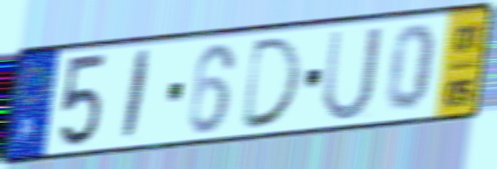0: (385, 20, 439, 117)
5: (54, 49, 112, 150)
6: (186, 40, 239, 138)
D: (238, 33, 305, 134)
I: (118, 47, 155, 146)
U: (320, 23, 386, 125)
